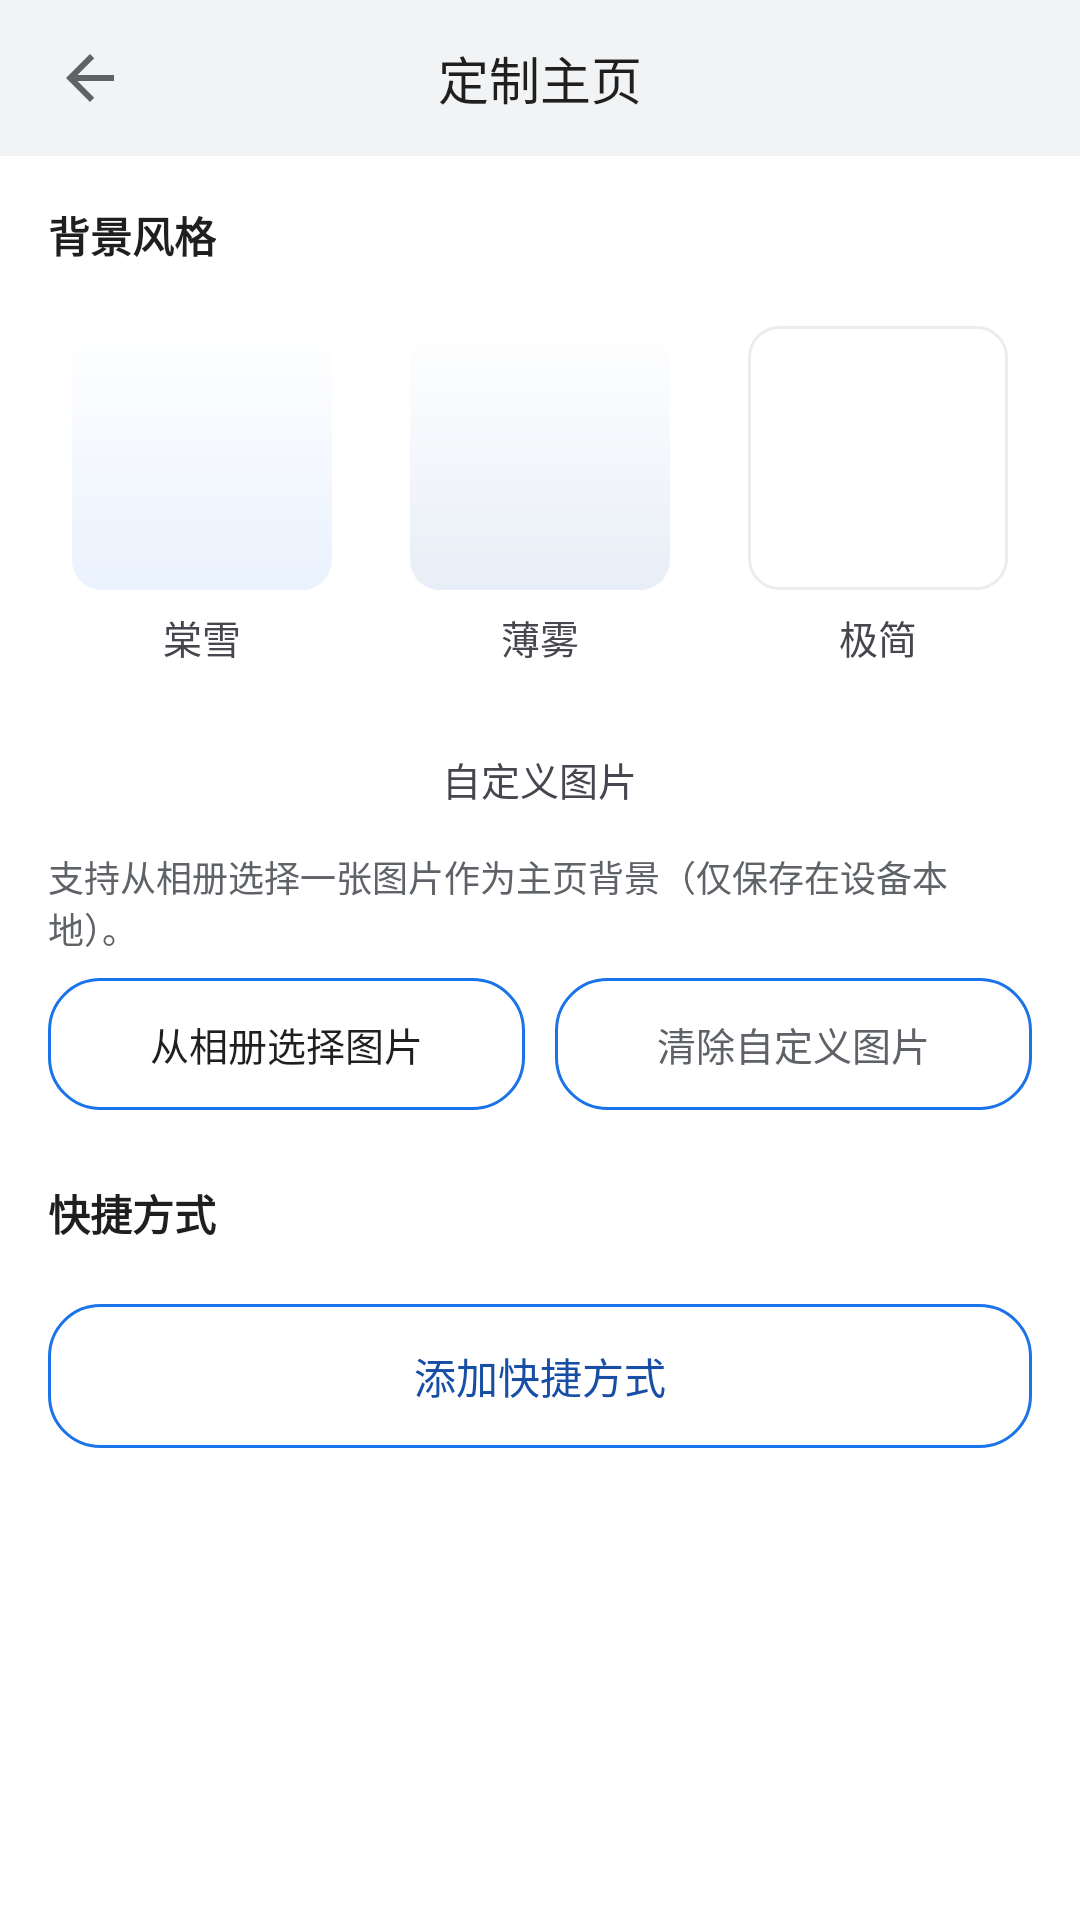

Named icons in this screenshot (1080 x 1920) and their centers, (x=x, y=y):
返回: (x=90, y=78)
